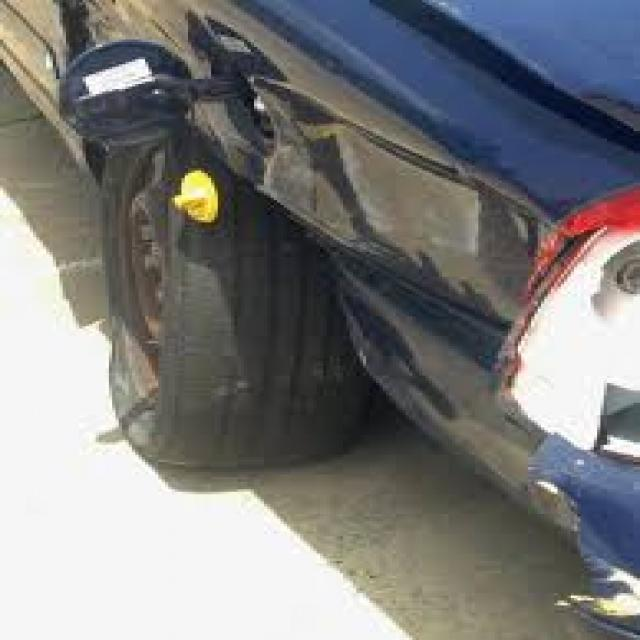minor: (274, 171, 508, 423)
